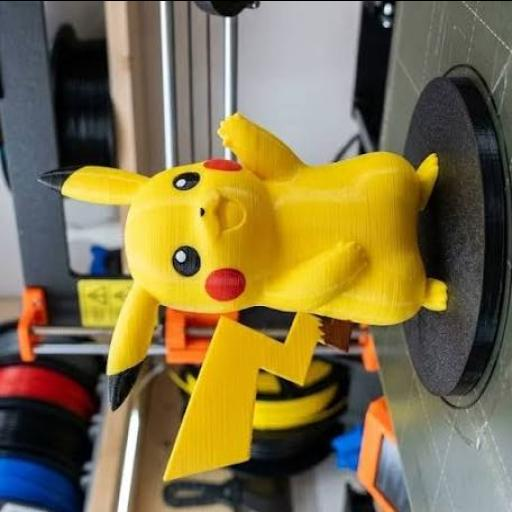Pikachu: (38, 112, 448, 482)
